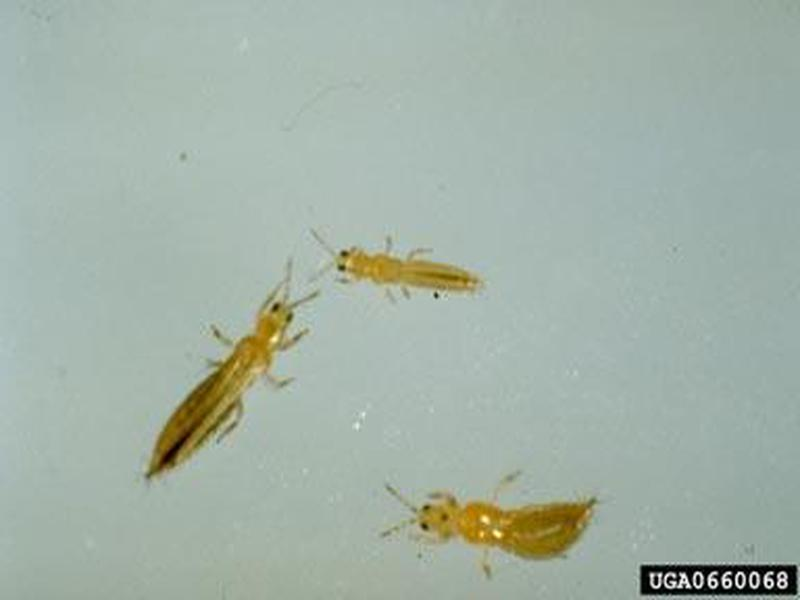Thrips: (147, 295, 292, 479), (397, 482, 620, 582), (325, 232, 517, 335)
